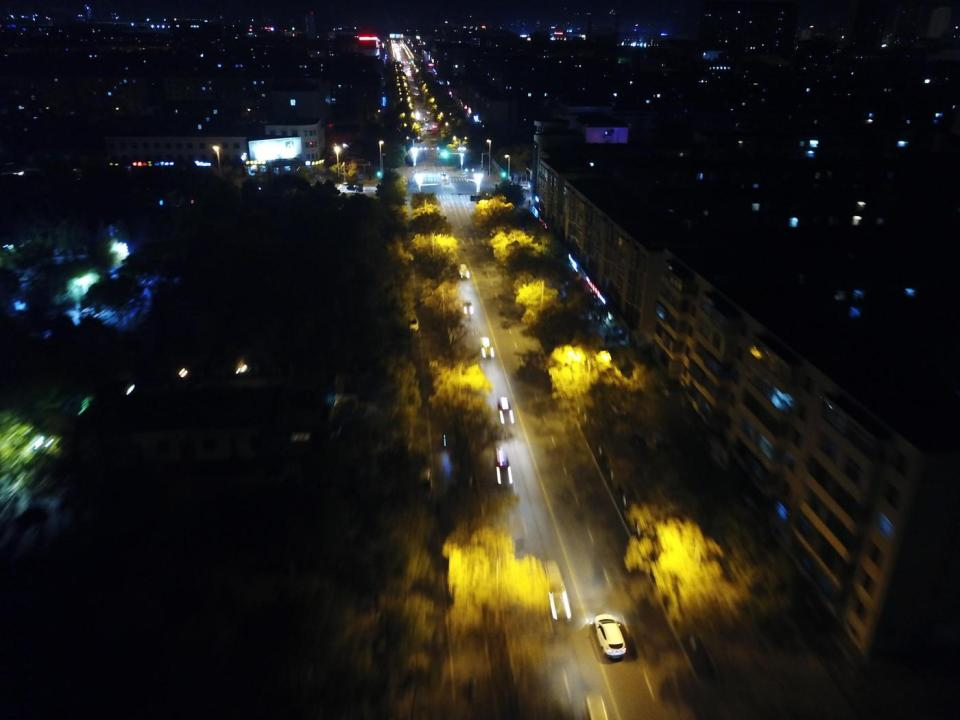car: (593, 614, 627, 661), (495, 447, 512, 488), (498, 395, 514, 424), (481, 336, 494, 358), (407, 313, 419, 332), (464, 300, 473, 316), (440, 172, 447, 180), (403, 59, 408, 64), (437, 152, 442, 157), (426, 110, 430, 114), (424, 122, 428, 126), (432, 124, 436, 128), (423, 118, 428, 121), (415, 92, 419, 95), (416, 86, 418, 90), (412, 78, 414, 82), (426, 128, 430, 130)
van: (458, 264, 470, 278)
